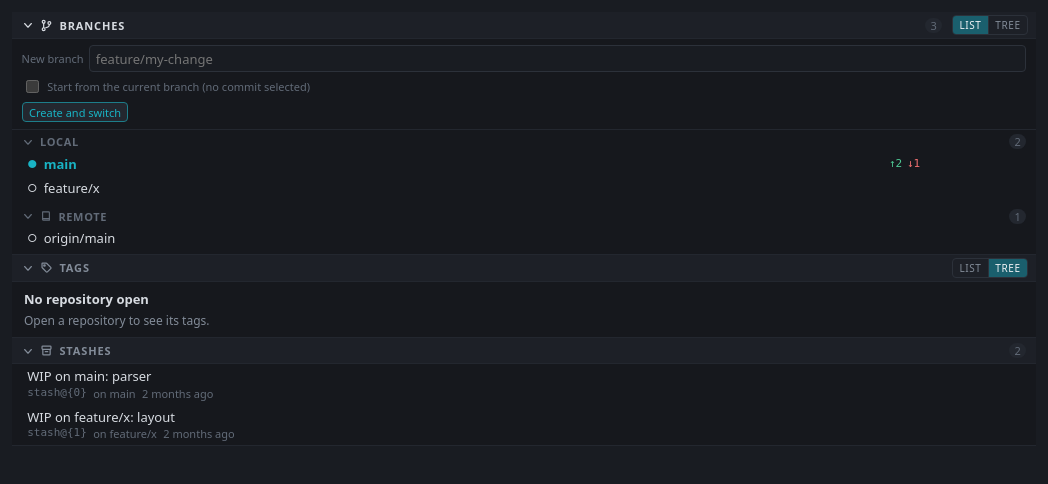
Test: creating a branch › rejects refs/heads/main in the field
The image size is (1048, 484).
Type "refs/heads/main" into the field labelled "New branch".
click(558, 59); type("refs/heads/main")  # box x1=89 y1=45 x2=1026 y2=72
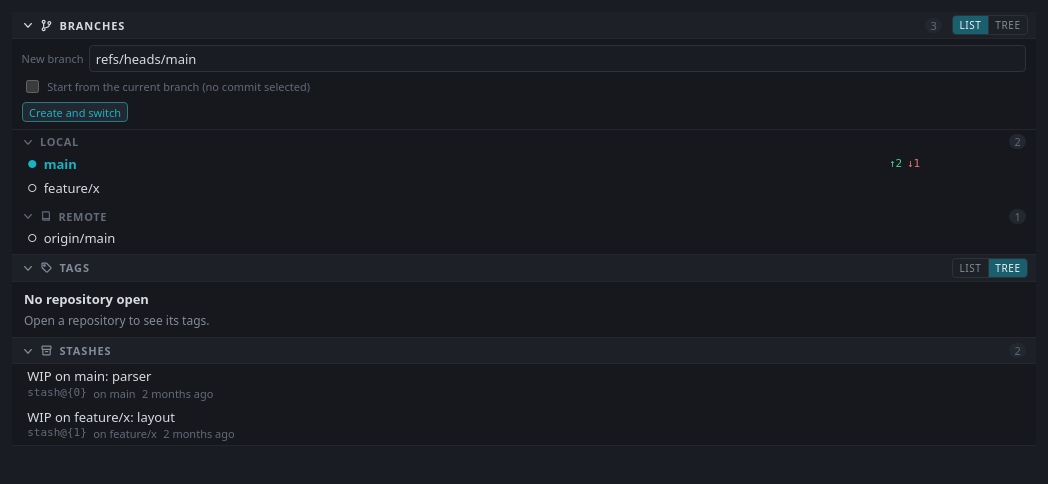
Click the button "Create and switch".
click(75, 112)  # box x1=22 y1=102 x2=128 y2=122
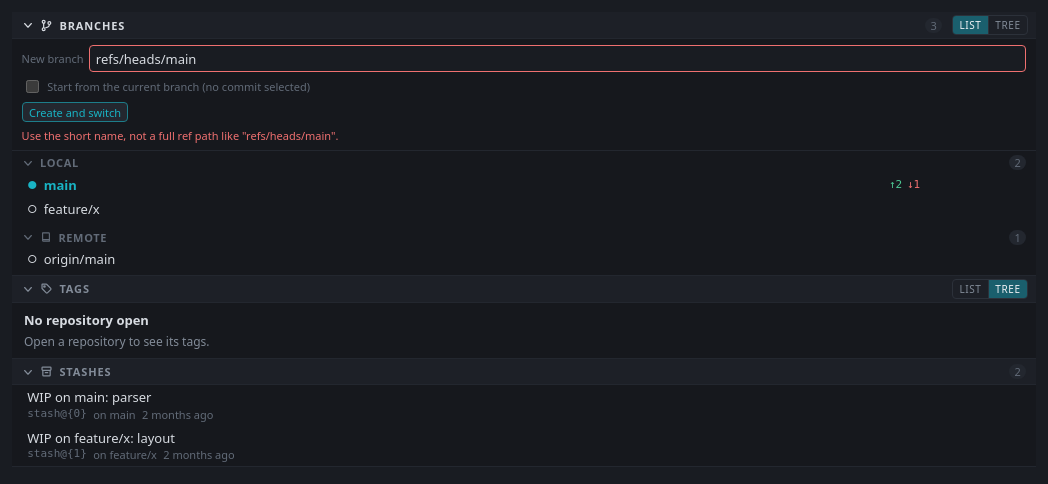
Now the message shows "Use the short name", box x1=22 y1=128 x2=338 y2=143
